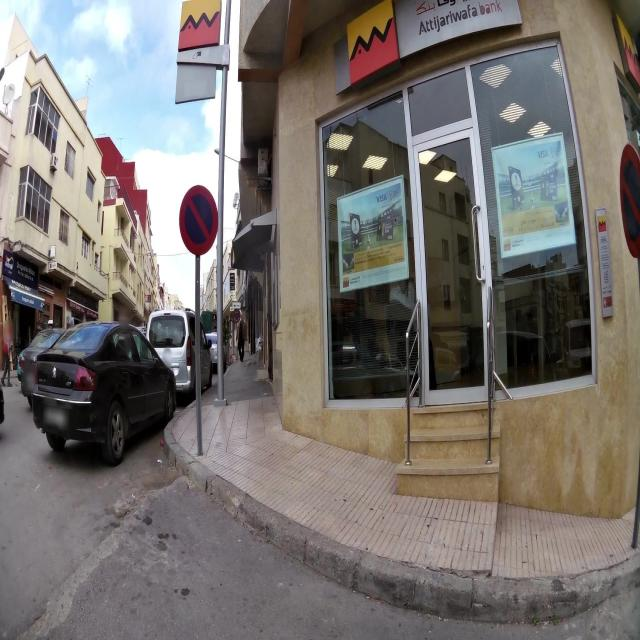forb_stopping: (178, 182, 220, 258)
